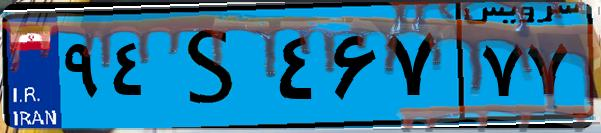4: (270, 28, 330, 110), (110, 28, 158, 98)
6: (330, 28, 385, 110)
7: (385, 28, 445, 110), (475, 38, 525, 113), (525, 38, 570, 115)
9: (57, 26, 110, 100)
S: (158, 12, 270, 120)
